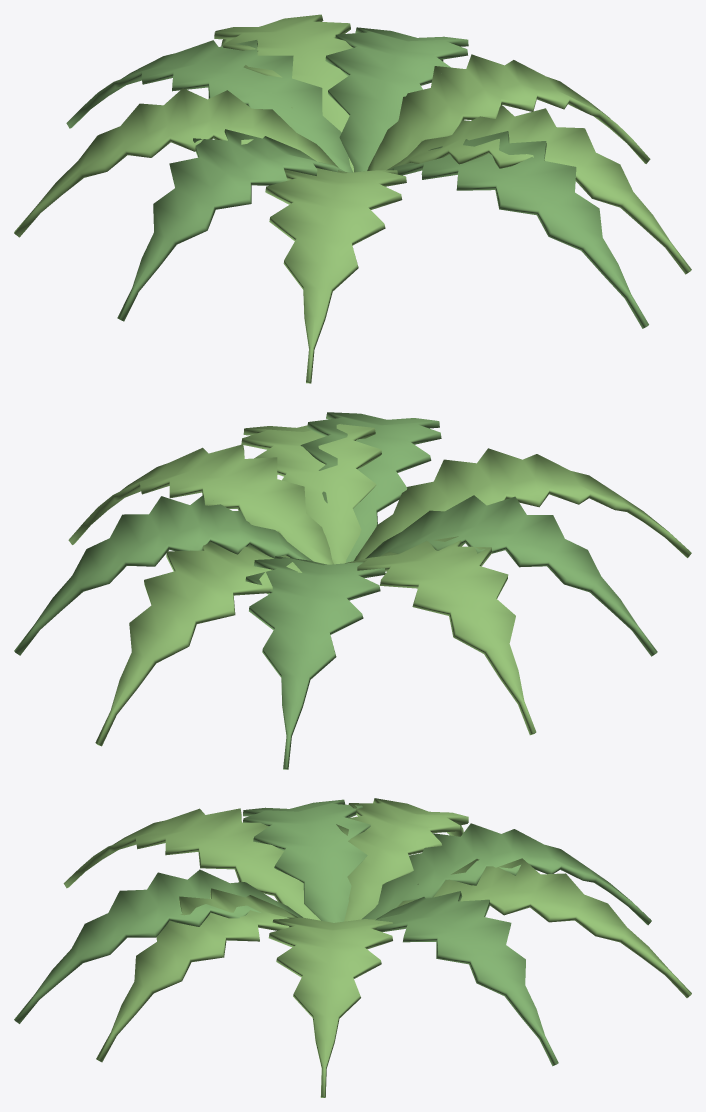
File: Fern.gltf
The picture shows the model from 3 angles, top to bottom: view 1: azimuth 30°, elevation 25°; view 2: azimuth 150°, elevation 25°; view 3: azimuth 270°, elevation 25°; orthographic projection. The views are drawn at different scales.
Parts seen in each view (by area): view 1: Fern; view 2: Fern; view 3: Fern.
Boxes of the visible parts, x1,y1,x2,y2 form: Fern: (14,14,691,383); Fern: (14,412,691,769); Fern: (14,798,691,1097).
Bounding box in the file's own units: 1.16 × 0.2256 × 1.34.
